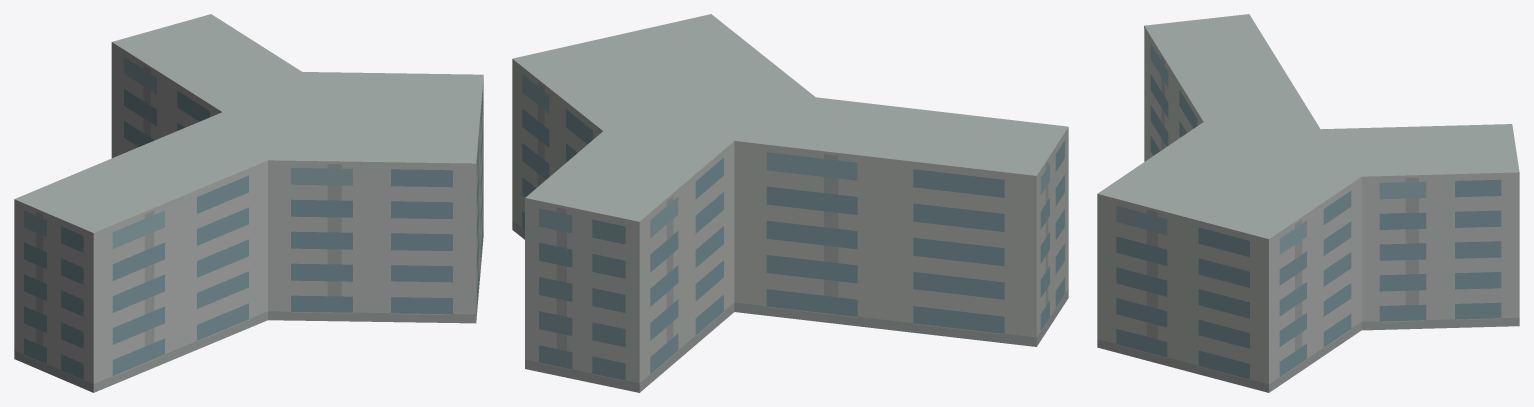
Rendered from residential-3ee38403-46d1-45f8-8a7c-53f954d8e824.glb.
3 renders of one model, left to right at view 1: azimuth 30°, elevation 25°; view 2: azimuth 150°, elevation 25°; view 3: azimuth 270°, elevation 25°, orthographic. The views are drawn at different scales.
Parts seen in each view (by area): view 1: residential-3ee38403-46d1-45f8-8a7c-53f954d8e824.tmp; view 2: residential-3ee38403-46d1-45f8-8a7c-53f954d8e824.tmp; view 3: residential-3ee38403-46d1-45f8-8a7c-53f954d8e824.tmp.
Part boxes in pixels (bbox=[...]): residential-3ee38403-46d1-45f8-8a7c-53f954d8e824.tmp: bbox=[14, 14, 483, 392]; residential-3ee38403-46d1-45f8-8a7c-53f954d8e824.tmp: bbox=[512, 14, 1068, 392]; residential-3ee38403-46d1-45f8-8a7c-53f954d8e824.tmp: bbox=[1097, 14, 1519, 392].
Size of the model in its own units: 47.91 by 15.25 by 37.97.
